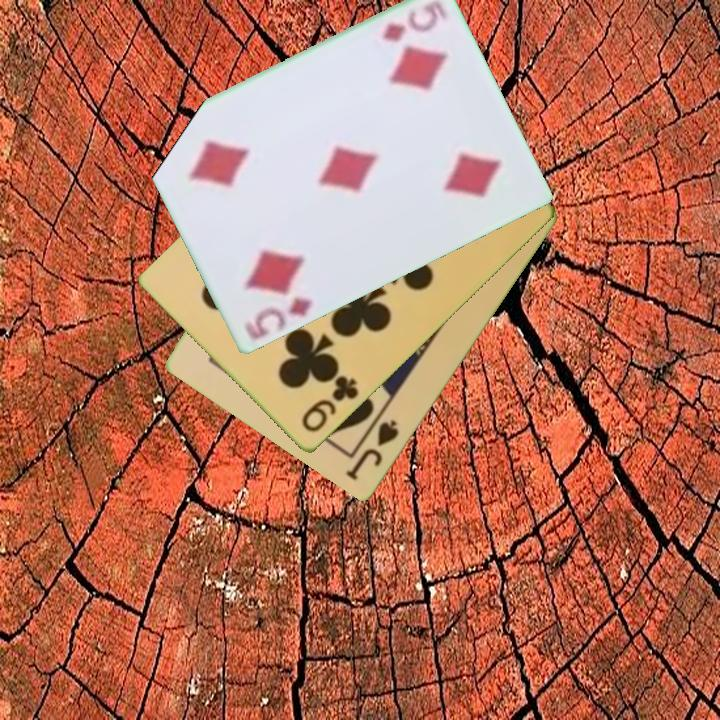5d: (240, 294, 316, 344), (378, 6, 436, 46)
9c: (297, 372, 362, 436)
Js: (342, 416, 402, 484)
